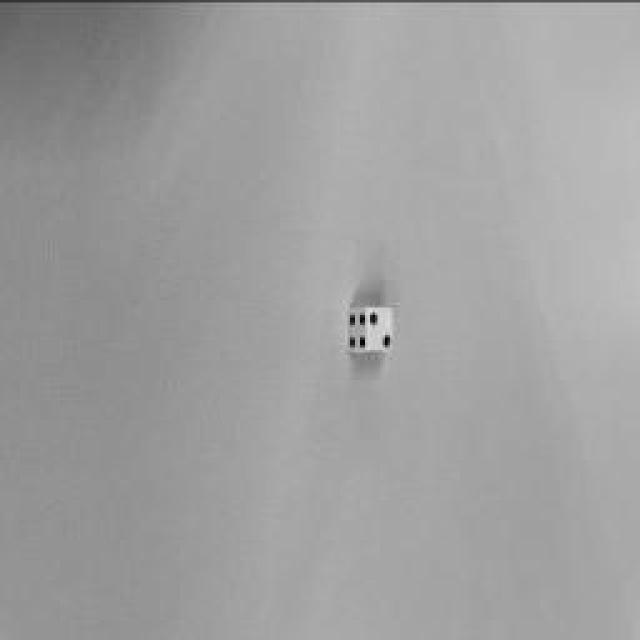dice_2: (366, 306, 394, 352)
